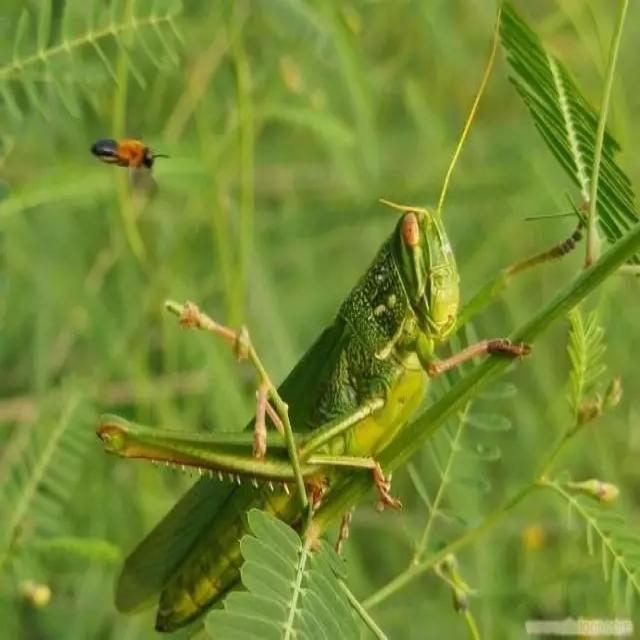ZhaMeng: (106, 195, 450, 615)
